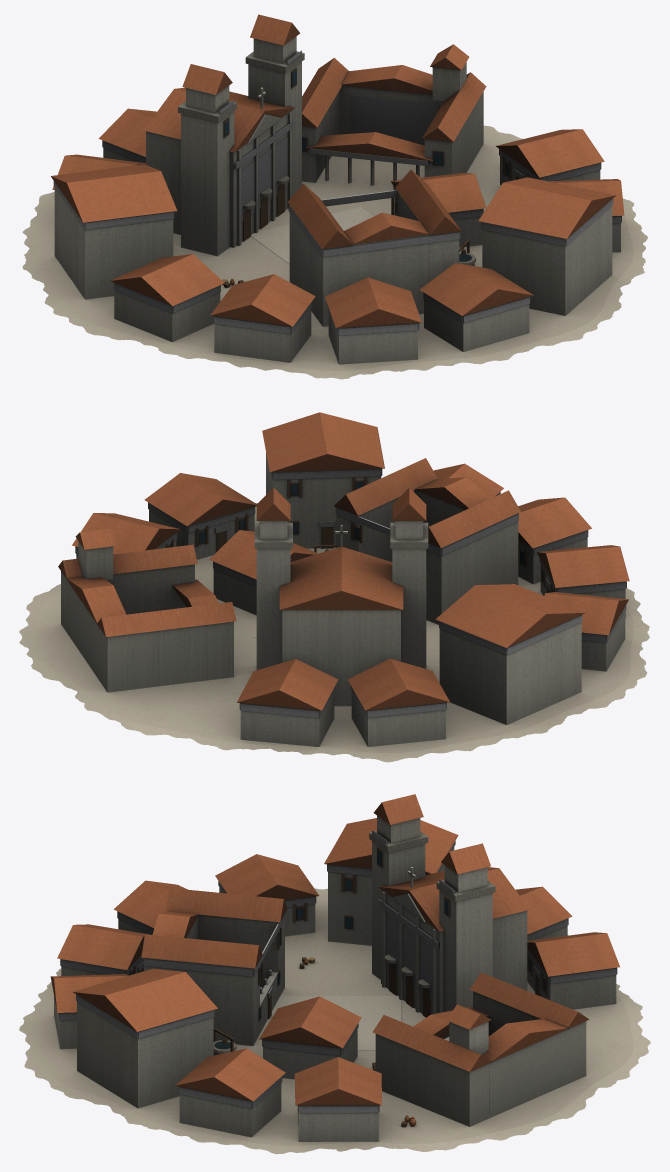
Rendered from gunpowder-town-medium-a-americas.glb.
3 views of the same model, one above another, from view 1: azimuth 30°, elevation 25°; view 2: azimuth 150°, elevation 25°; view 3: azimuth 270°, elevation 25° (orthographic).
Visible parts, largest first — view 1: LOD0; view 2: LOD0; view 3: LOD0.
Boxes of the visible parts, bbox=[...] form: LOD0: bbox=[22, 14, 647, 379]; LOD0: bbox=[19, 412, 649, 762]; LOD0: bbox=[19, 794, 650, 1154].
Size of what is drawn, in the model's own units: 5.98 by 1.84 by 5.95.
Materials: 3 (3 with a texture image).
